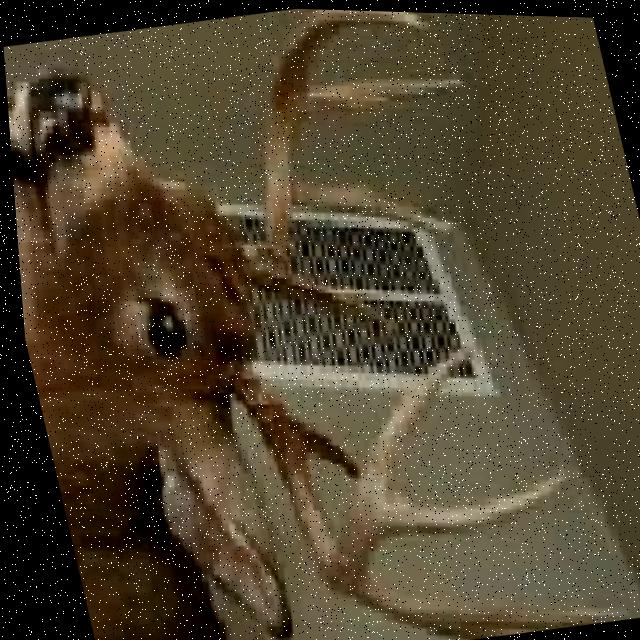L-F: (230, 7, 429, 290)
L-G1: (266, 269, 397, 327)
L-G2: (285, 179, 457, 232)
L-G3: (290, 75, 471, 123)
R-F: (219, 340, 470, 595)
R-G1: (284, 414, 356, 482)
R-G3: (345, 575, 620, 627)
R-G4: (373, 465, 561, 534)
